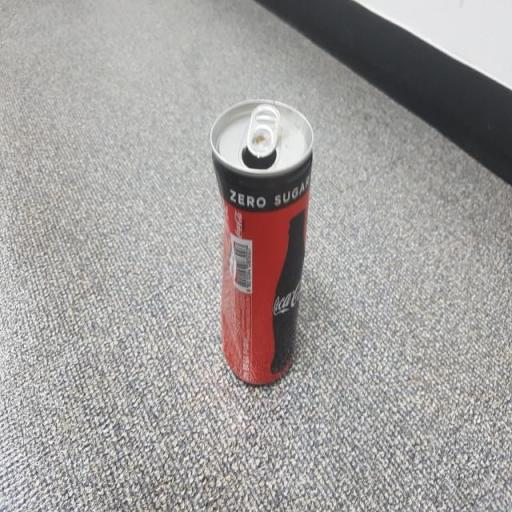metal: (187, 62, 349, 392)
